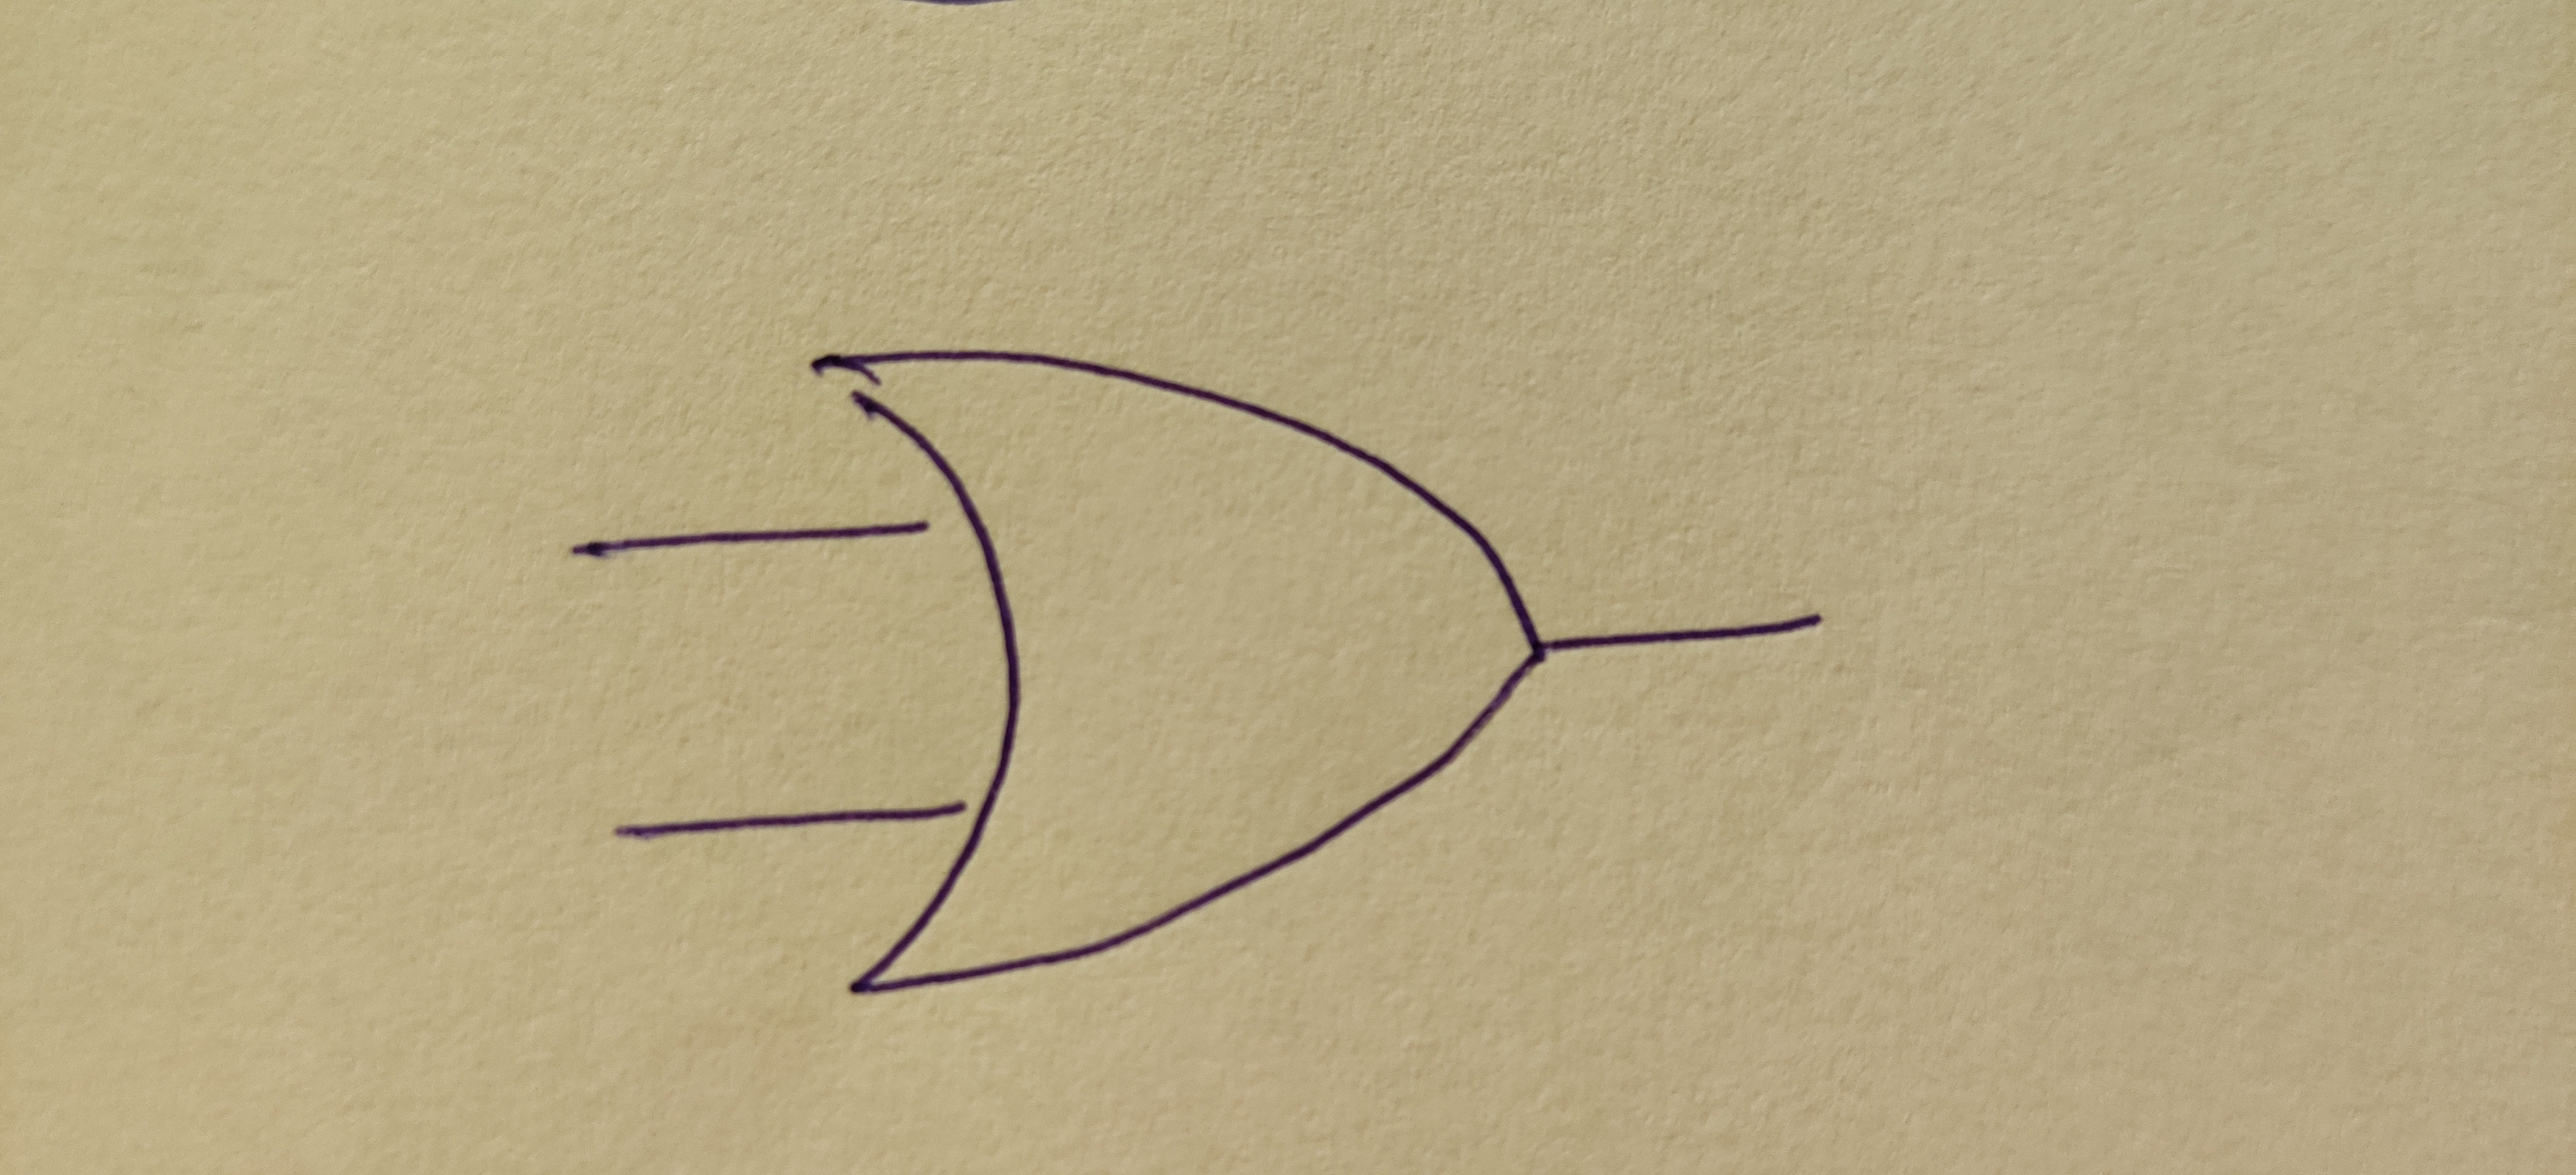or: (816, 353, 1541, 994)
